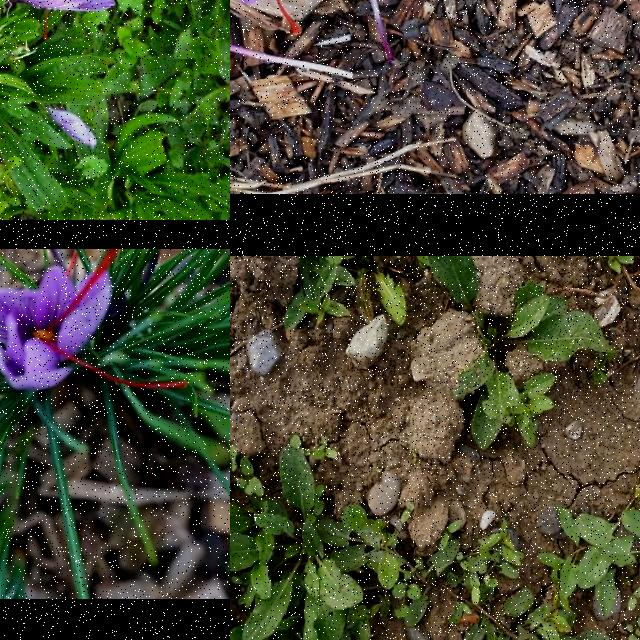flower: (0, 249, 187, 391), (11, 0, 117, 42), (230, 0, 302, 34), (50, 108, 99, 150)
